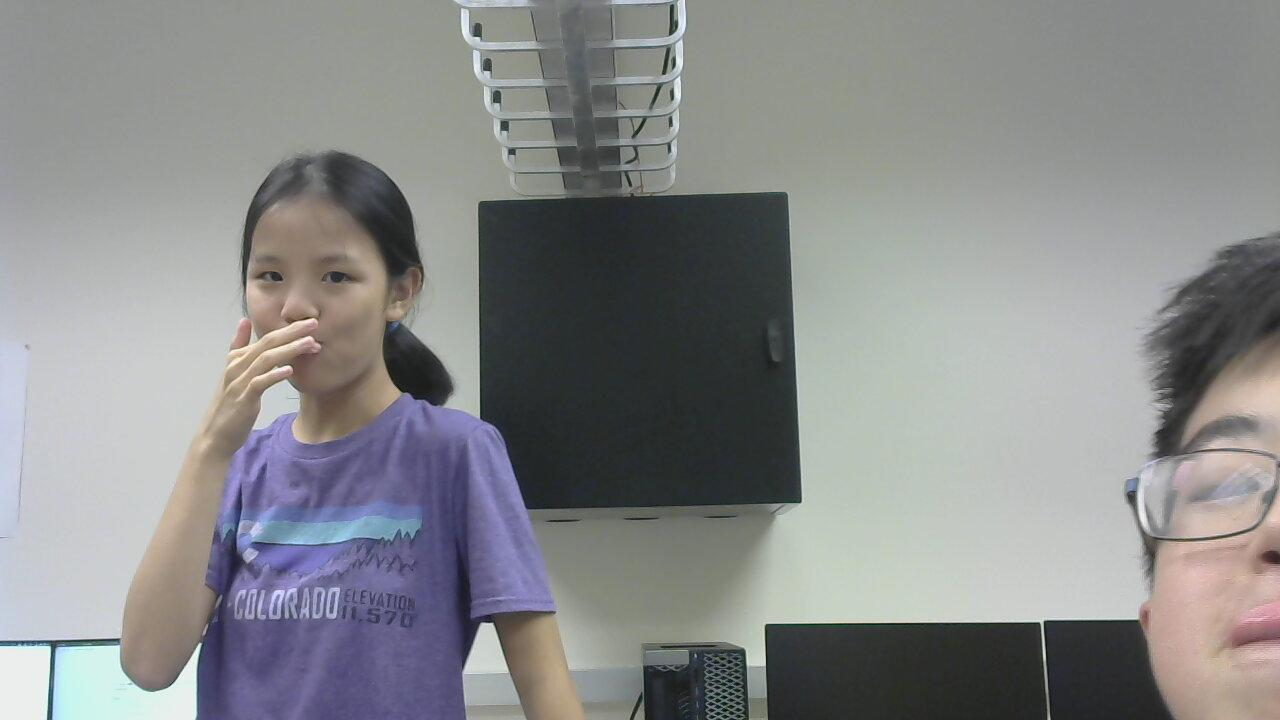hands: (201, 314, 334, 450)
